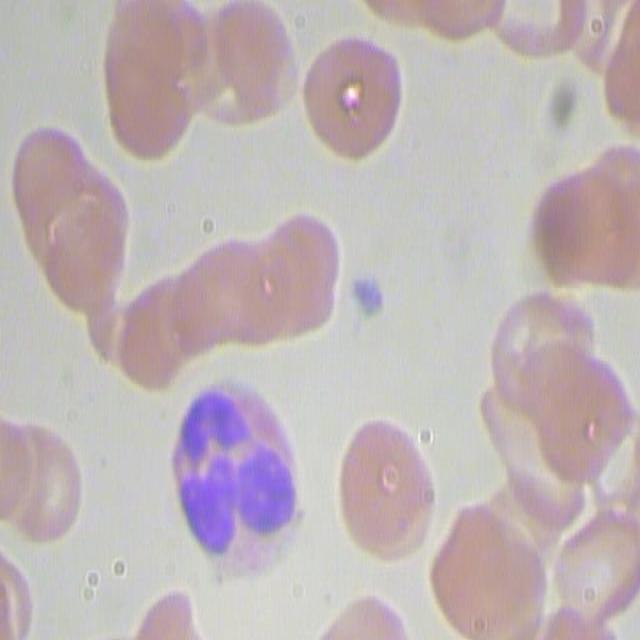RBC: (10, 124, 124, 325), (519, 143, 637, 299), (98, 0, 208, 165), (431, 494, 549, 640), (520, 349, 638, 492), (332, 413, 434, 568), (181, 0, 296, 130), (237, 209, 342, 350), (300, 29, 403, 161), (487, 303, 607, 406), (546, 508, 640, 628), (0, 415, 84, 547), (483, 0, 634, 73), (357, 0, 507, 45), (597, 2, 640, 139), (0, 543, 33, 637)
WBC: (162, 371, 309, 580)
platelets: (348, 271, 388, 319)
